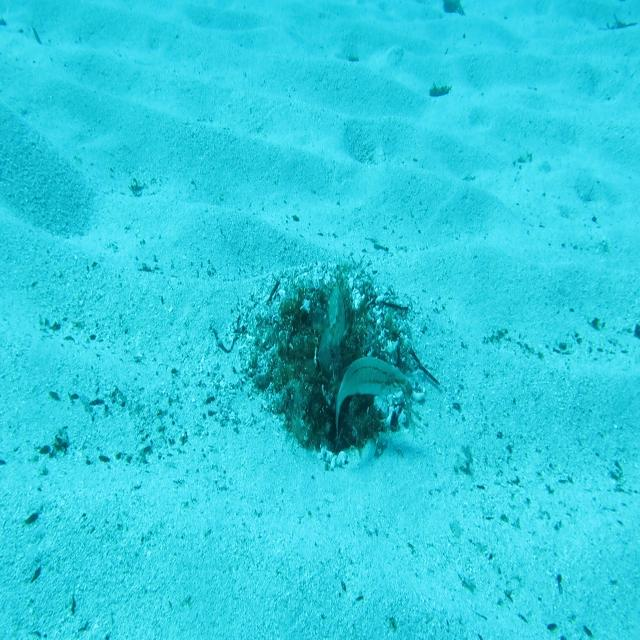NIP_CORE: (312, 280, 351, 376)
core_nest: (301, 298, 354, 352)
female: (334, 353, 411, 442)
nest: (226, 250, 431, 484)
vegetation: (426, 82, 453, 101)
